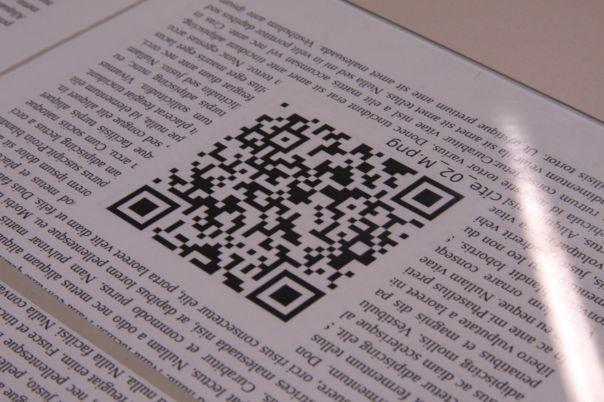qr_code: (106, 101, 464, 322)
